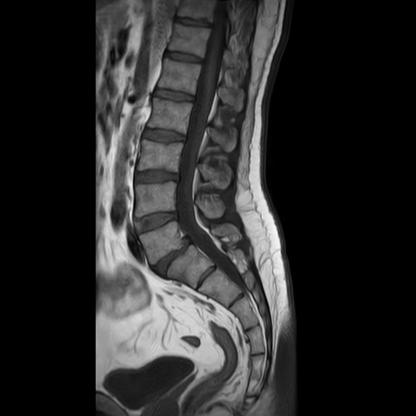Disc Bulgerotation: (148, 247, 201, 269), (135, 210, 179, 232), (137, 167, 179, 188)
